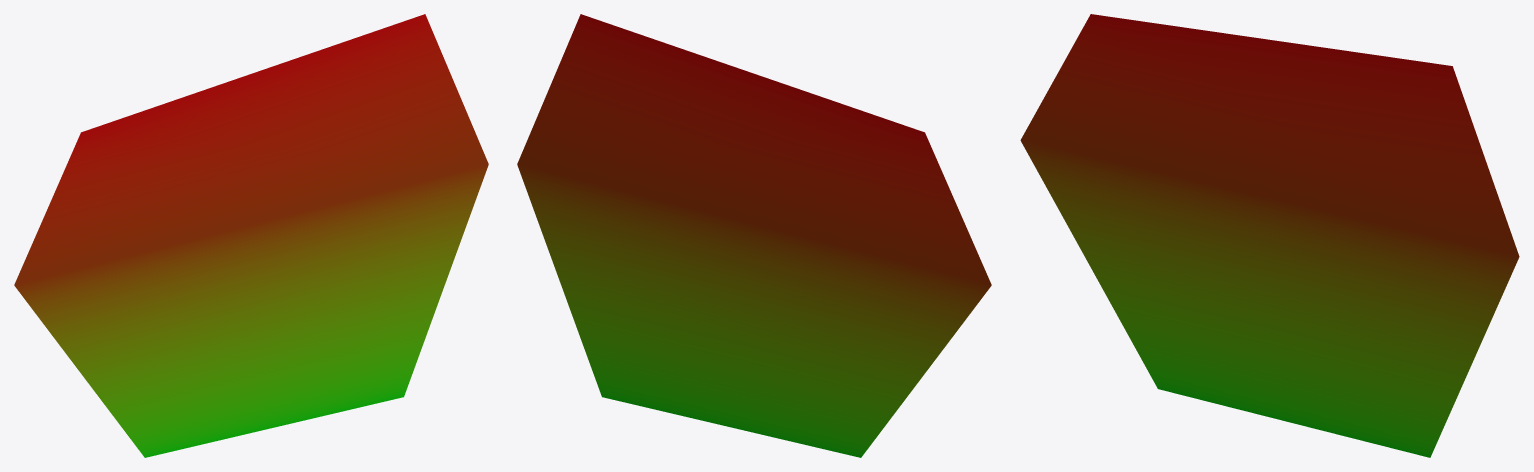
The model's file is Cotton Grass_LOD4_Var2_wlykecdia.fbx.
3 renders of one model, left to right at view 1: azimuth 30°, elevation 25°; view 2: azimuth 150°, elevation 25°; view 3: azimuth 330°, elevation 25°, orthographic. The views are drawn at different scales.
Visible parts, largest first — view 1: _zx7k_Var2_LOD4; view 2: _zx7k_Var2_LOD4; view 3: _zx7k_Var2_LOD4.
Part boxes in pixels (box(x1,y1,x2,y2)): _zx7k_Var2_LOD4: box(14, 14, 488, 457); _zx7k_Var2_LOD4: box(517, 14, 991, 457); _zx7k_Var2_LOD4: box(1020, 14, 1519, 457).
Bounding box in the file's own units: 36.68 × 27.91 × 2.38e-07.
